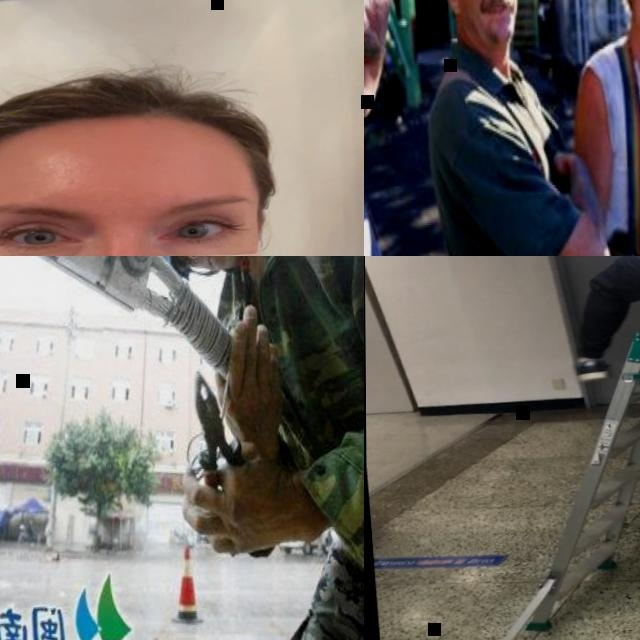NO-Hardhat: (0, 62, 275, 190)
NO-Mask: (364, 23, 393, 125), (460, 0, 523, 45)
NO-Safety Vest: (213, 256, 364, 614), (424, 64, 587, 256), (590, 38, 640, 256)
Person: (115, 256, 364, 640), (0, 47, 364, 256), (405, 0, 612, 256), (552, 0, 640, 256), (364, 0, 449, 256)
Safety Cone: (165, 541, 203, 627)
vehicle: (275, 521, 338, 558)
